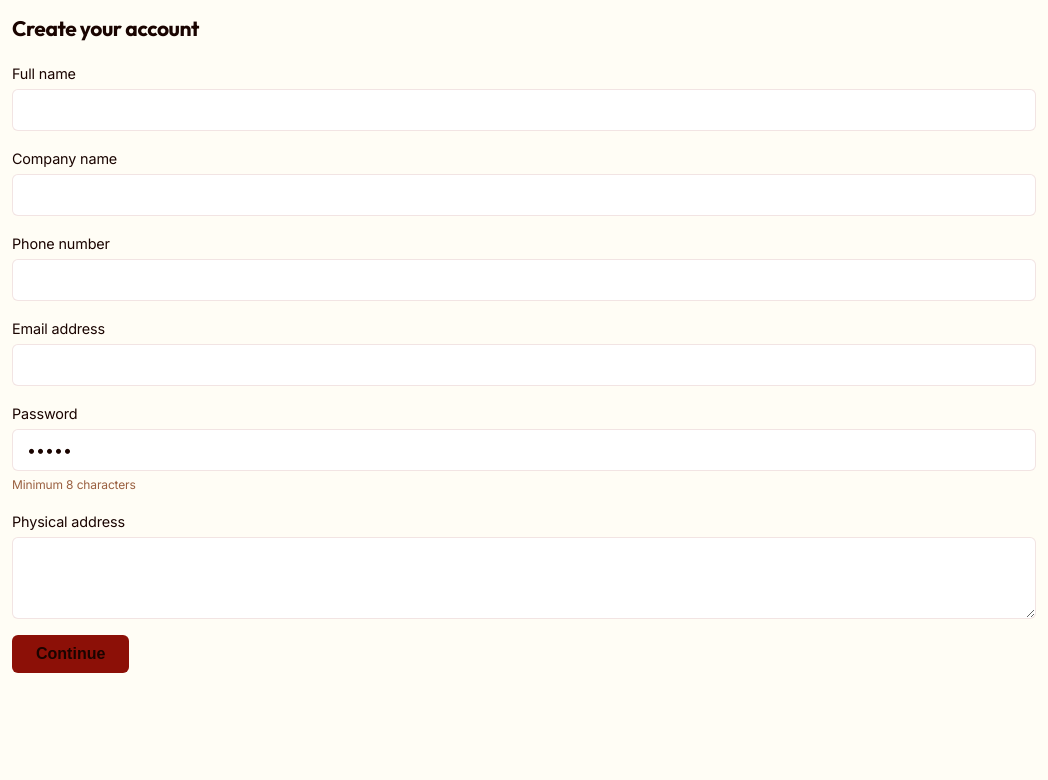
Test: StepAccount — ZISPA checklist visibility › shows password validation error when password is too short
The width and height of the screenshot is (1048, 780).
Click the button with test id "btn-next" at (71,654), box [12,635,129,673]
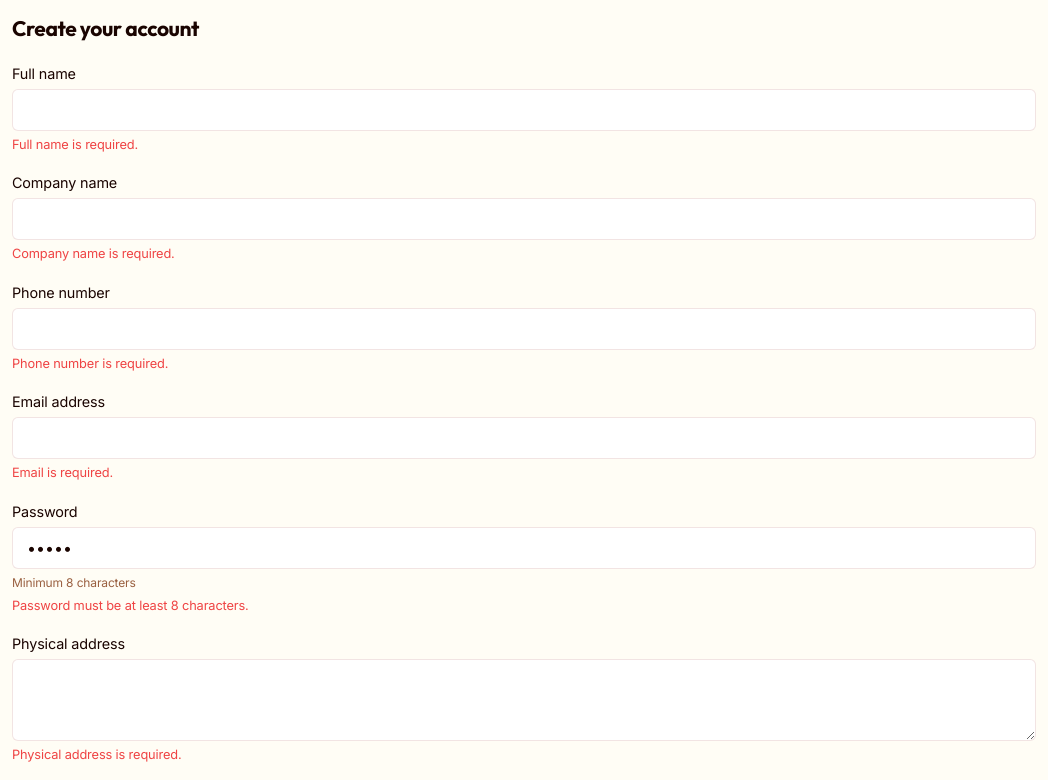
Now the text "Password must be at least 8 characters." is shown, box [12,598,249,613]
